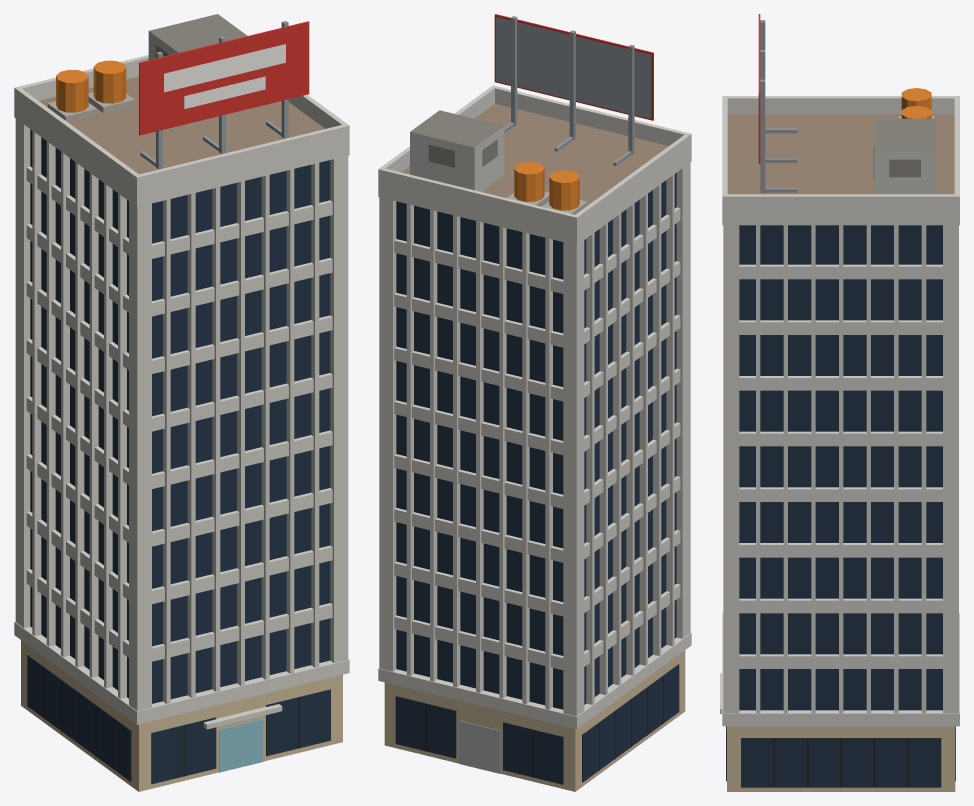
The model's file is gedung_06.glb.
The picture shows the model from 3 angles, left to right: view 1: azimuth 30°, elevation 25°; view 2: azimuth 150°, elevation 25°; view 3: azimuth 270°, elevation 25°; orthographic projection. The views are drawn at different scales.
Parts seen in each view (by area): view 1: gedung_06; view 2: gedung_06; view 3: gedung_06.
Boxes of the visible parts, left/top/right/bottom form: gedung_06: left=14, top=14, right=349, bottom=791; gedung_06: left=378, top=14, right=691, bottom=791; gedung_06: left=720, top=14, right=959, bottom=791.
Bounding box in the file's own units: 13.54 × 43.55 × 13.67.
